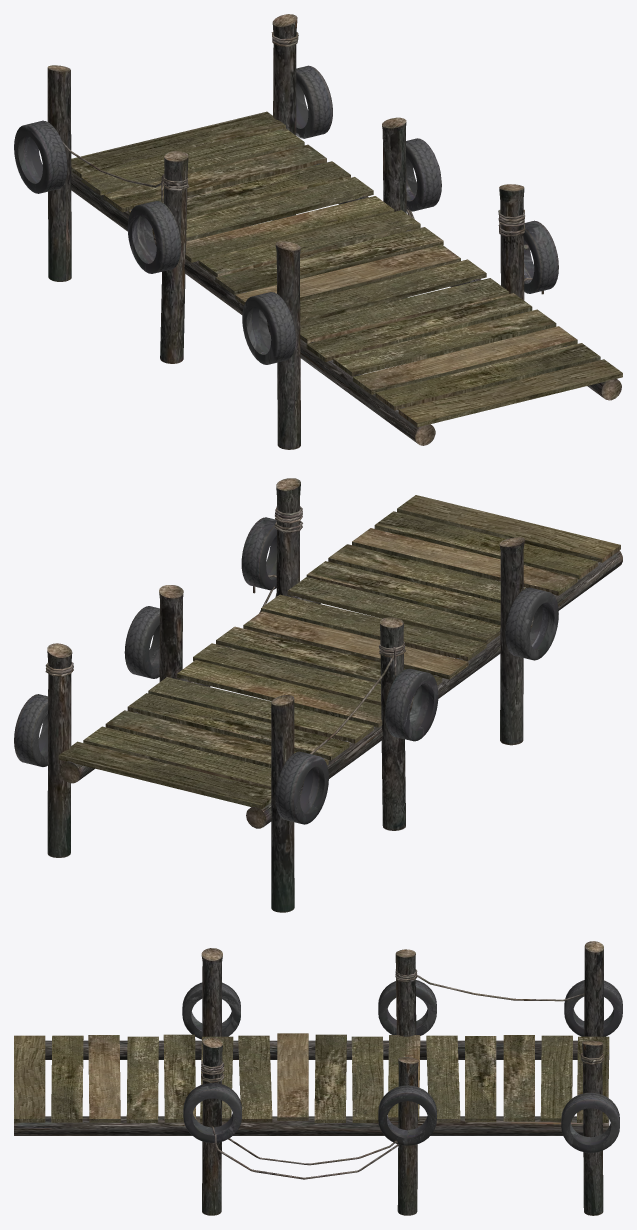
File: pier_dock.glb
The picture shows the model from 3 angles, top to bottom: view 1: azimuth 30°, elevation 25°; view 2: azimuth 150°, elevation 25°; view 3: azimuth 270°, elevation 25°; orthographic projection. The views are drawn at different scales.
Parts seen in each view (by area): view 1: defaultMaterial; view 2: defaultMaterial; view 3: defaultMaterial.
Part boxes in pixels (left/top/right/bottom): defaultMaterial: left=14, top=14, right=622, bottom=449; defaultMaterial: left=14, top=478, right=622, bottom=912; defaultMaterial: left=14, top=941, right=622, bottom=1215.
Size of the model in its own units: 2.82 by 1.98 by 6.22.
1 material, 1 textured.
